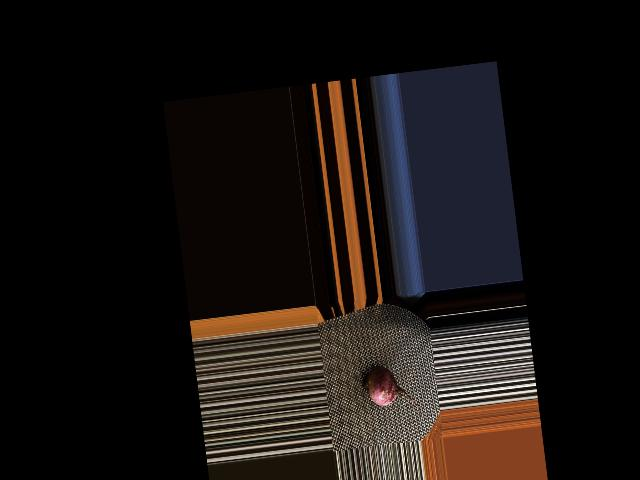beet: (359, 361, 422, 425)
